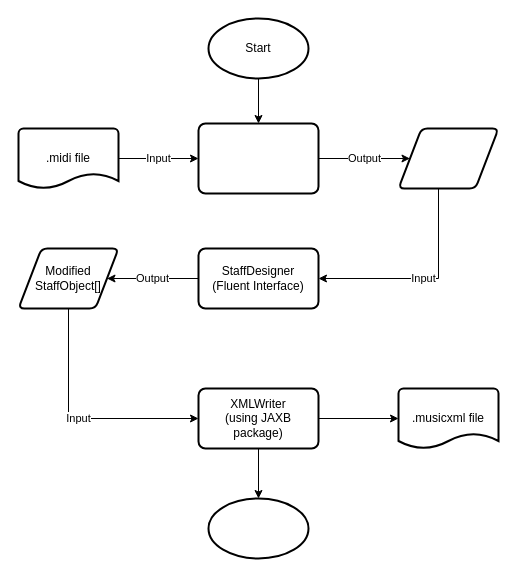
This 516x576 diagram has some shape labels left out. Each missing label, with the box of its shape:
End: (207, 497, 309, 559)
MidiParser (using javax.sound.midi package): (197, 122, 319, 194)
StaffObject[]: (397, 127, 499, 189)
